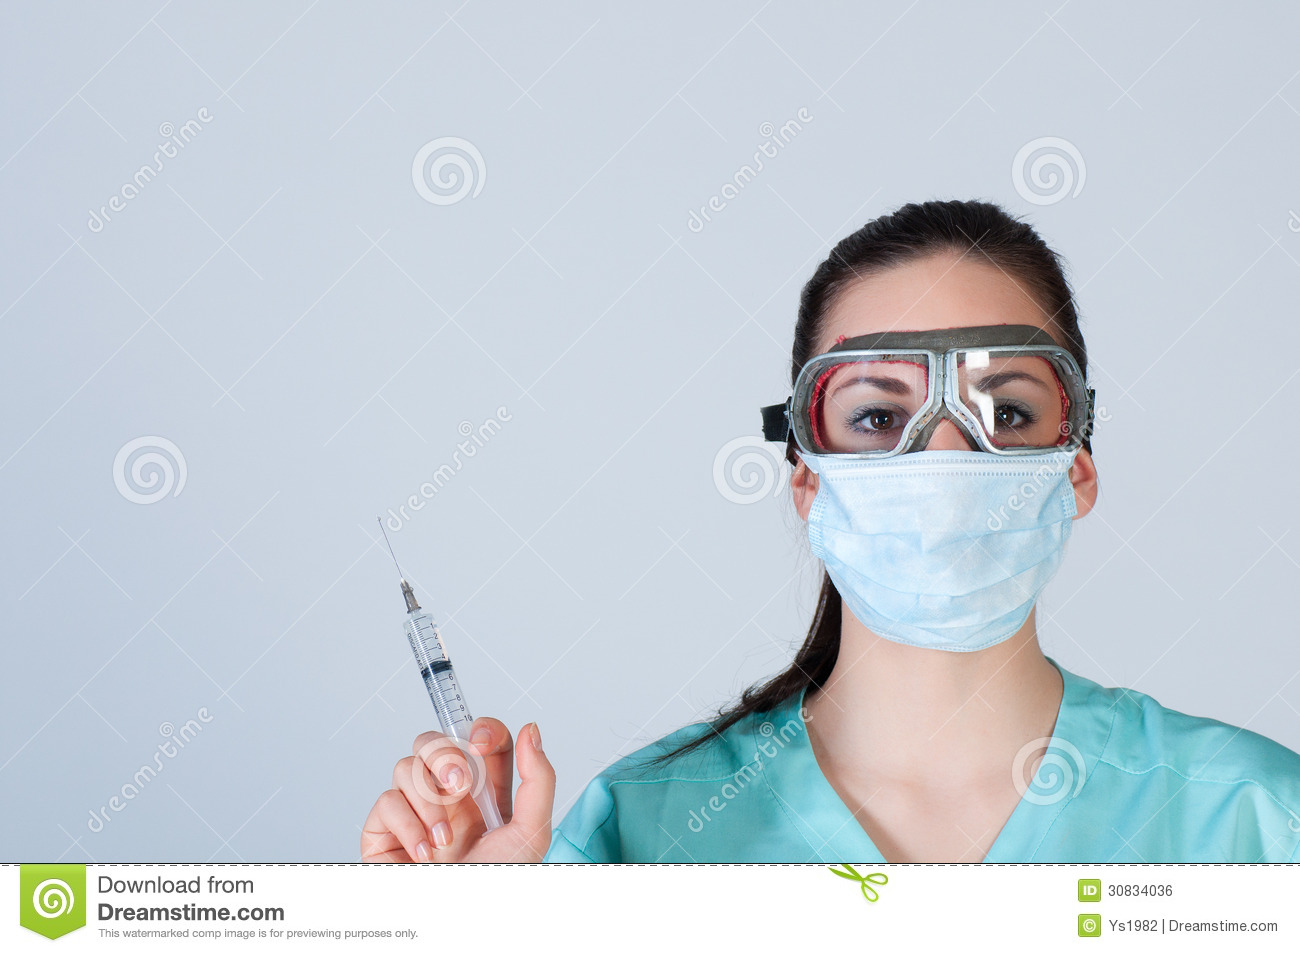mask: (798, 452, 1076, 648)
